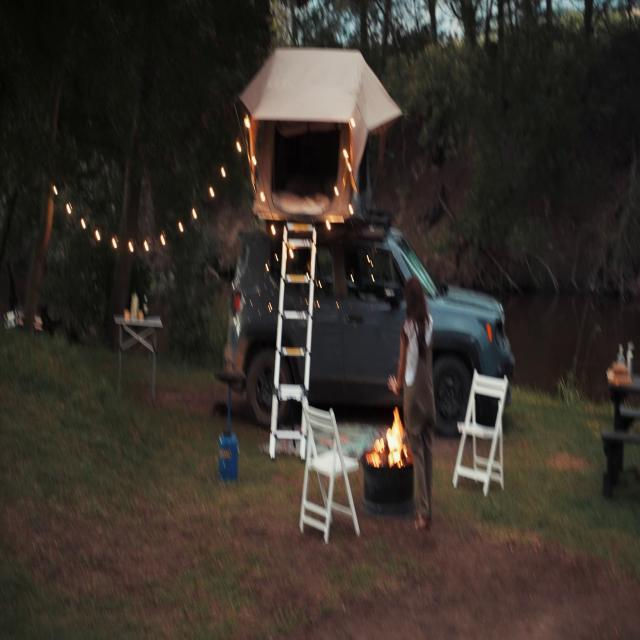Fire: (372, 402, 408, 470)
